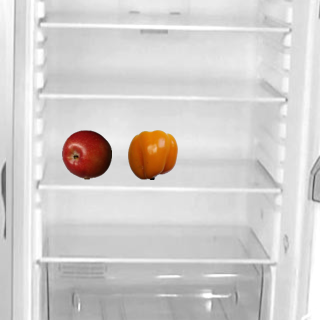Apple Braeburn: (61, 129, 111, 179)
Pepper Yellow: (127, 129, 177, 179)
